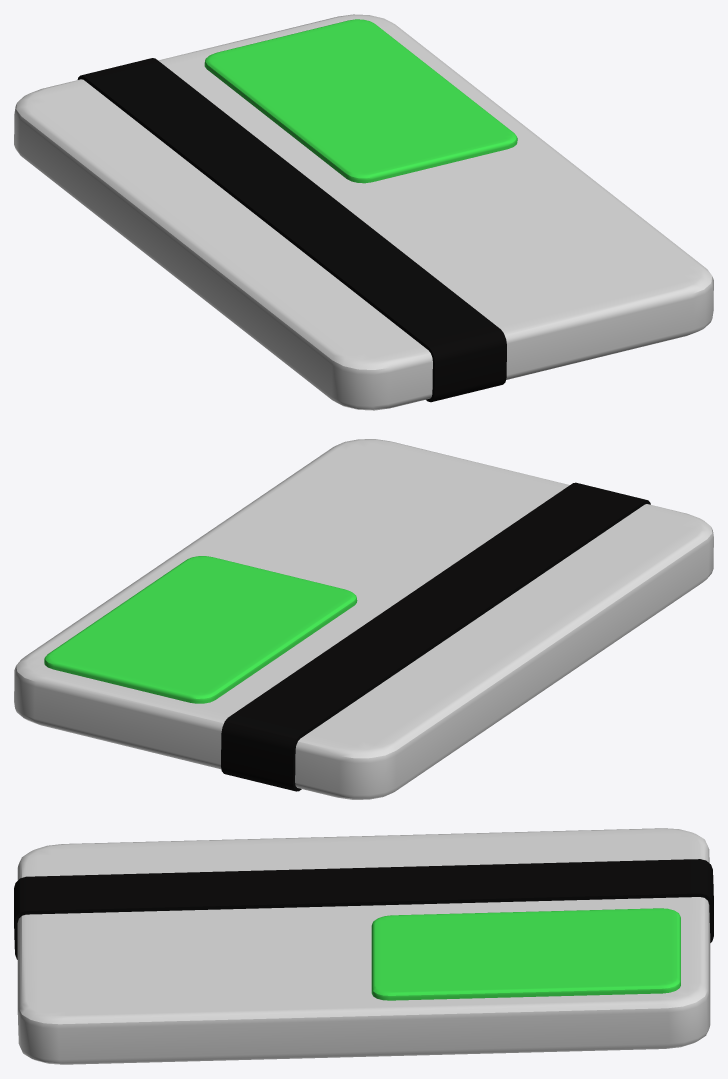
The model's file is TarjetaDeAccesoVerde.fbx.
3 renders of one model, top to bottom at view 1: azimuth 30°, elevation 25°; view 2: azimuth 150°, elevation 25°; view 3: azimuth 270°, elevation 25°, orthographic. The views are drawn at different scales.
Visible parts, largest first — view 1: BaseTarjeta3, Identificador3; view 2: BaseTarjeta3, Identificador3; view 3: BaseTarjeta3, Identificador3.
Boxes of the visible parts, x1,y1,x2,y2 form: BaseTarjeta3: [14, 14, 713, 410]; Identificador3: [204, 19, 517, 183]; BaseTarjeta3: [14, 439, 713, 799]; Identificador3: [44, 556, 357, 703]; BaseTarjeta3: [14, 828, 713, 1064]; Identificador3: [371, 908, 680, 1000].
Size of the model in its own units: 1.49 by 0.2855 by 2.46.
